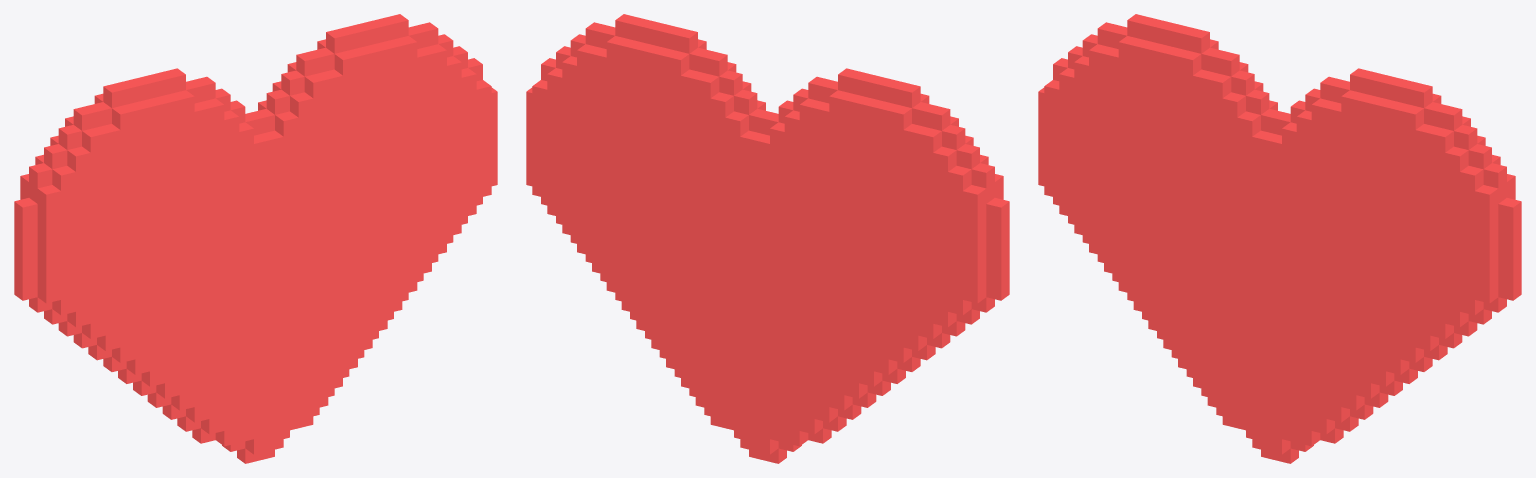
3 renders of one model, left to right at view 1: azimuth 30°, elevation 25°; view 2: azimuth 150°, elevation 25°; view 3: azimuth 330°, elevation 25°, orthographic.
Visible parts, largest first — view 1: Object; view 2: Object; view 3: Object.
Boxes of the visible parts, box(x1,y1,x2,y2) form: Object: box(14, 14, 497, 463); Object: box(526, 14, 1009, 463); Object: box(1038, 14, 1521, 463).
Bounding box in the file's own units: 32 × 26 × 3.
Materials: 1 (1 with a texture image).
